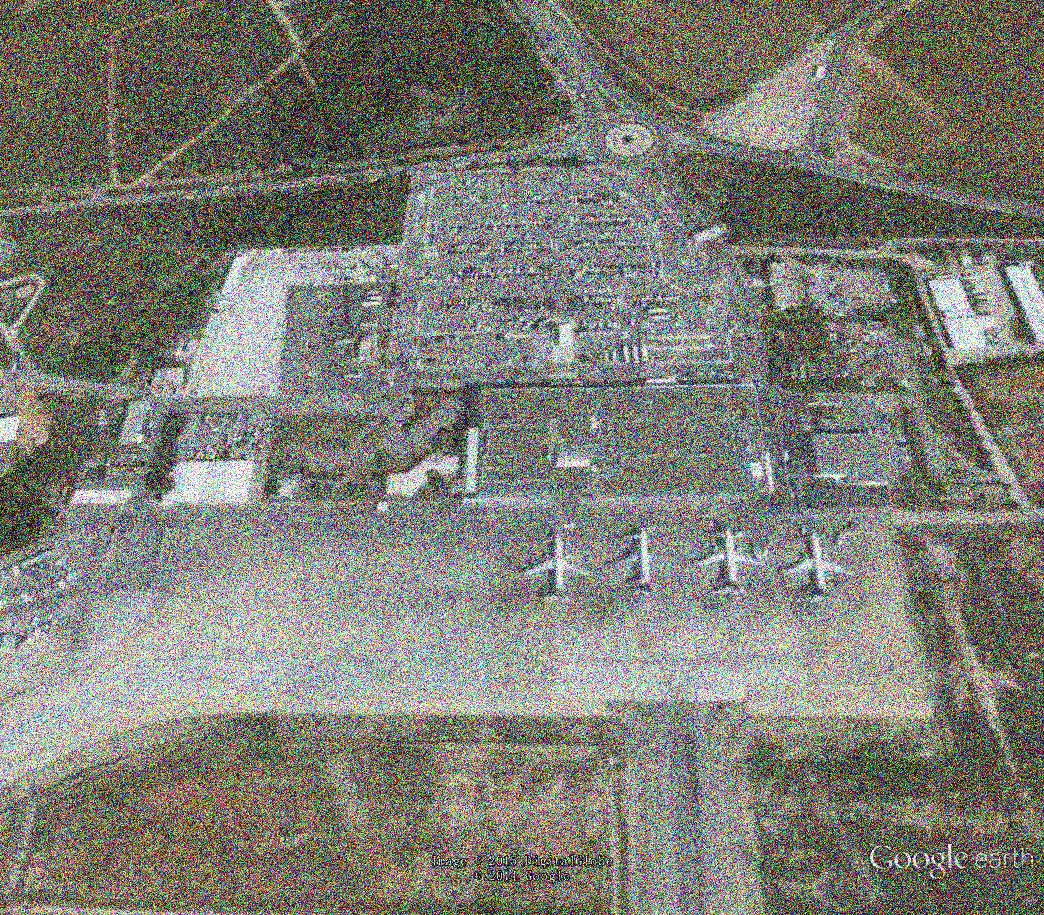aircraft: (769, 526, 859, 607), (595, 523, 681, 601), (688, 523, 771, 601), (516, 526, 595, 607)
